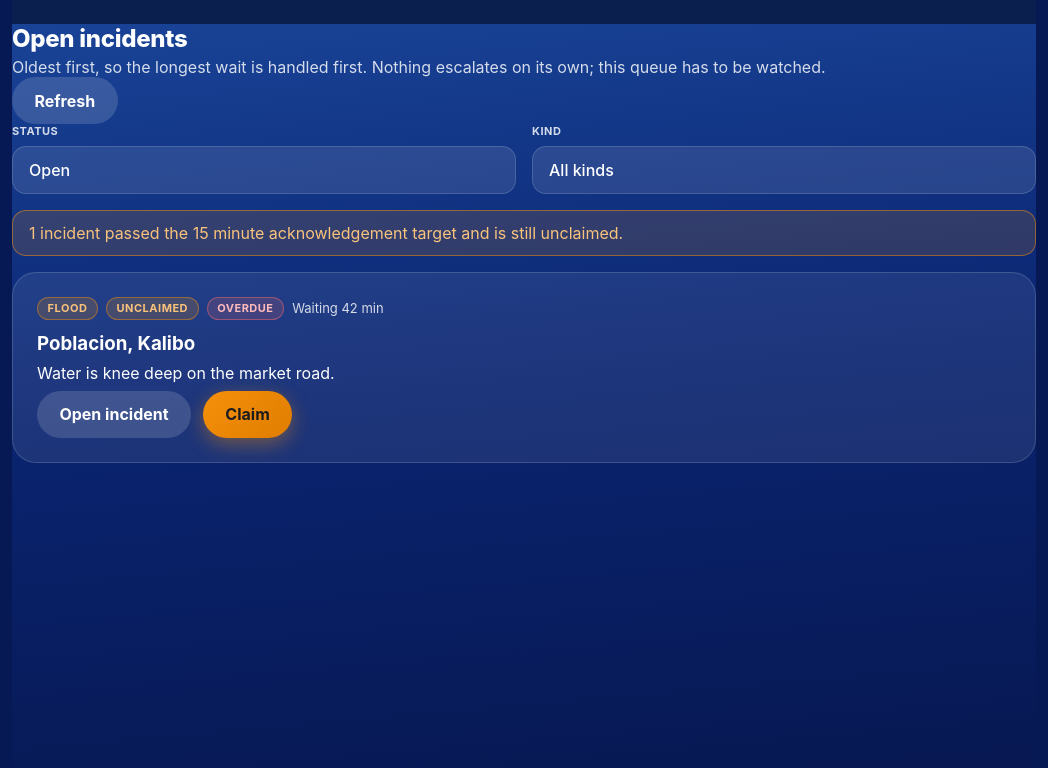
Test case: incident queue route › tells a responder who lost a race that somebody else holds it
The width and height of the screenshot is (1048, 768).
What coordinates should you click on to do the following:
click the button "Claim"
I would click on:
 (248, 414)
Its box is [203,391,292,438].
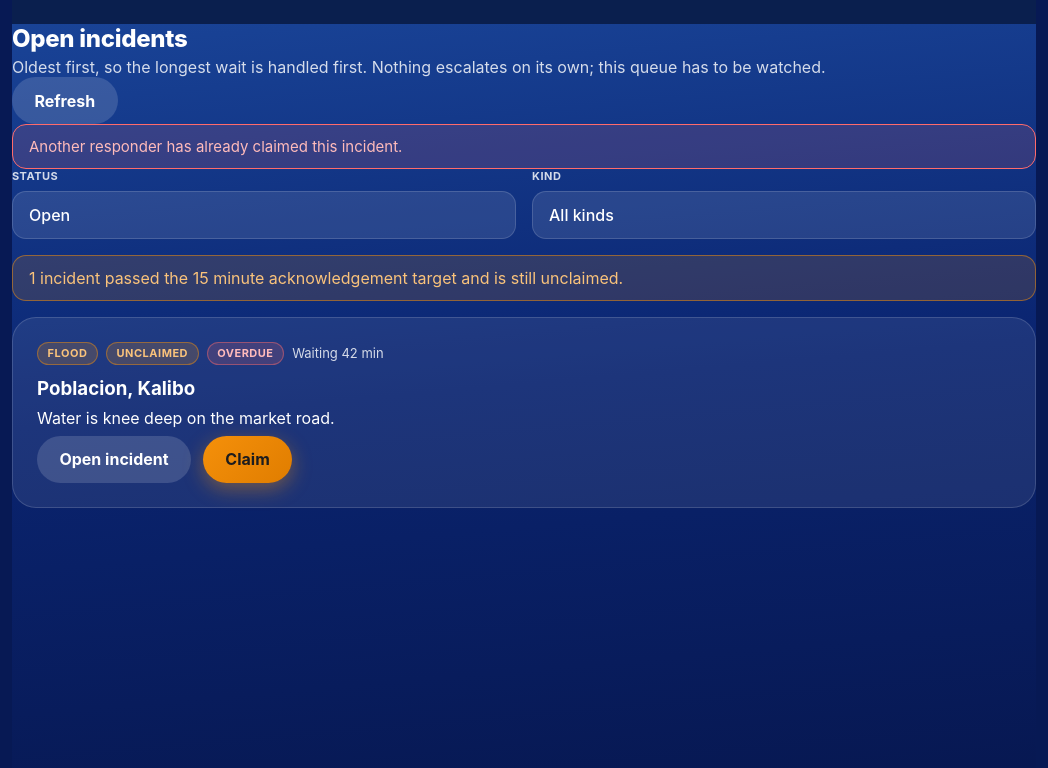
Expected: the message "Another responder has already claimed this incident." is shown, [12,124,1036,169]
